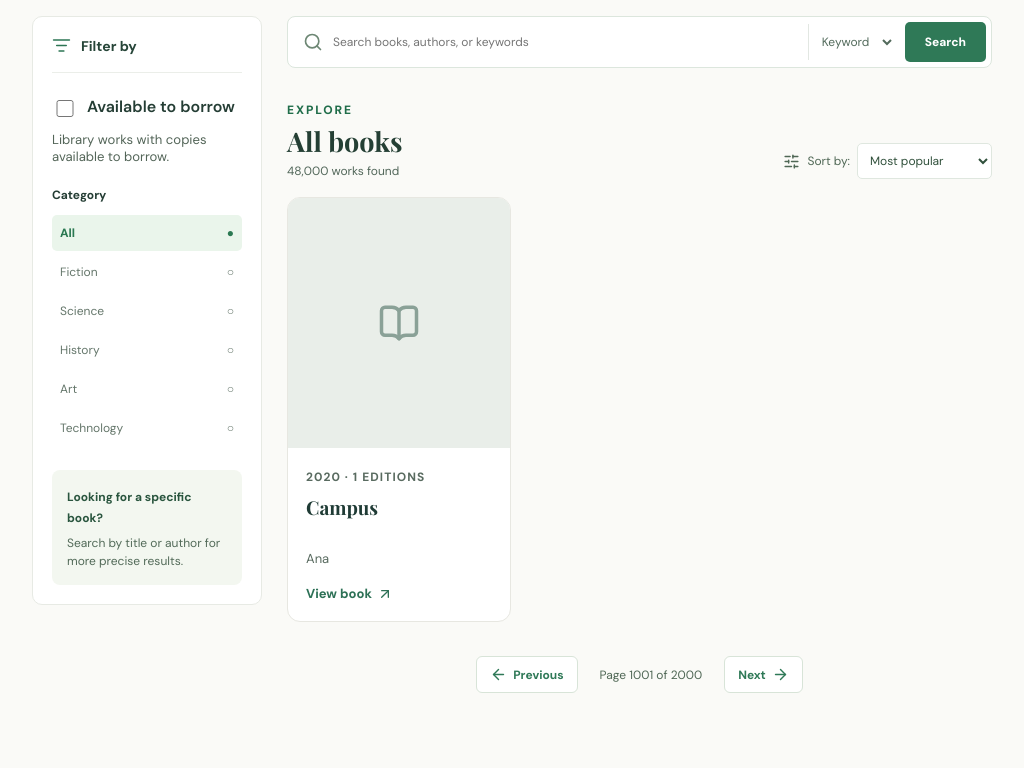
Test case: navigation continues past page 1000
The width and height of the screenshot is (1024, 768).
(page scrolled)
Expected: the text "Page 1001 of 2000" is shown, [600,667,702,683]
Click the button "Next": x=764, y=675 [724,656,803,693]
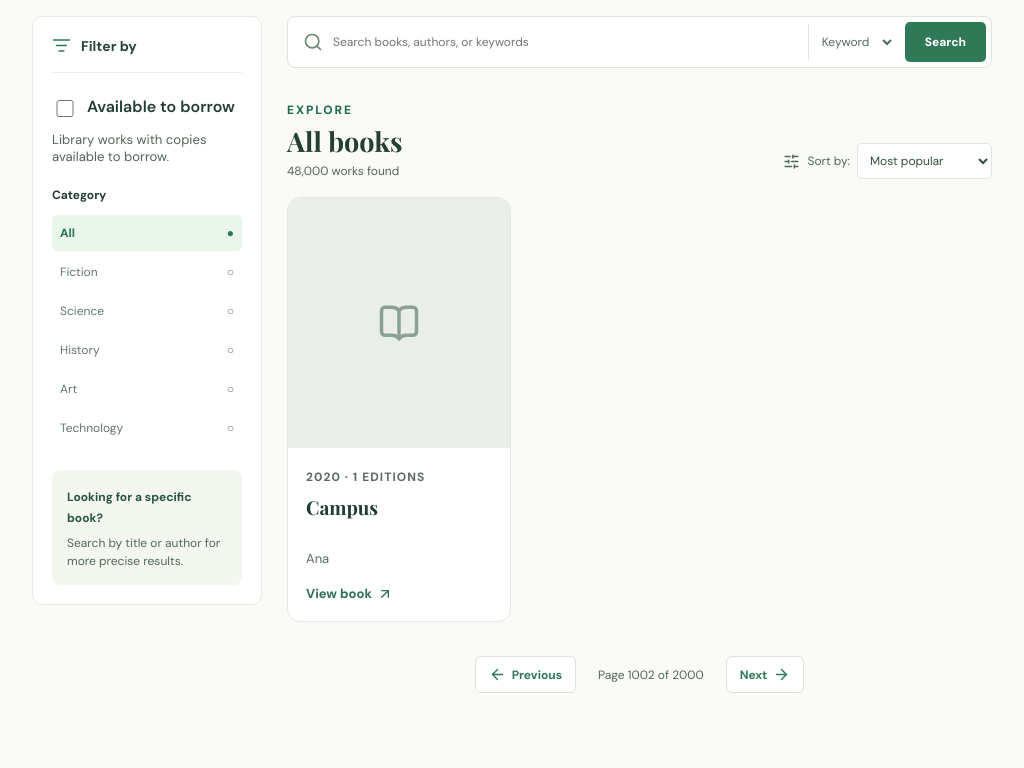
Result: the text "Page 1002 of 2000" is shown at [598,667,704,683]
